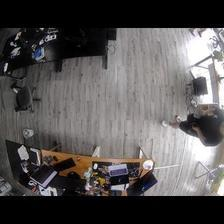normal: (161, 110, 224, 146)
